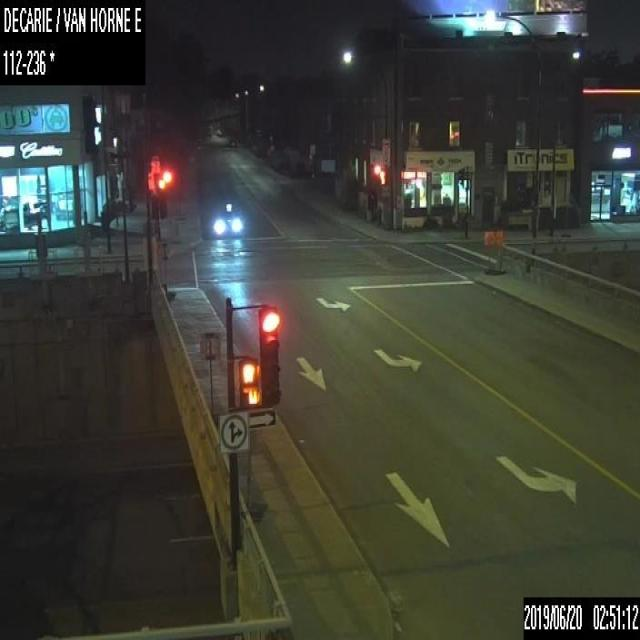construction: (240, 427, 267, 518), (200, 328, 220, 424), (156, 235, 174, 298), (482, 226, 493, 272), (494, 228, 504, 272)
vehicle: (209, 202, 245, 236), (227, 137, 236, 146)
